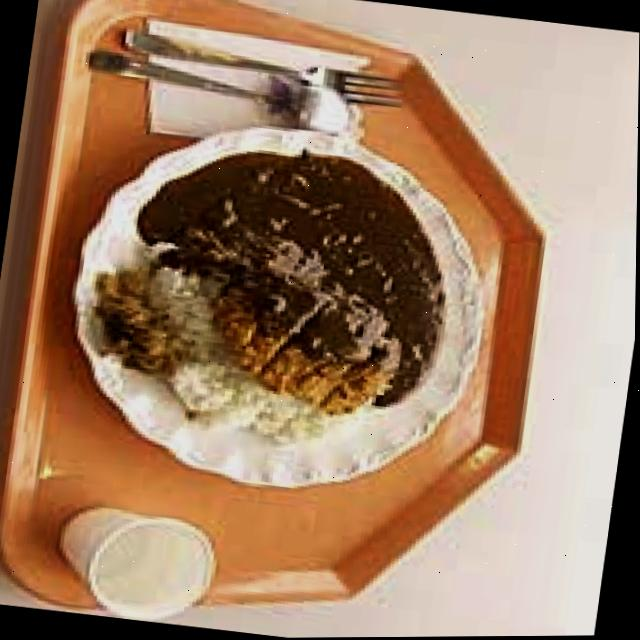猪肉菜式: (37, 105, 520, 517)
